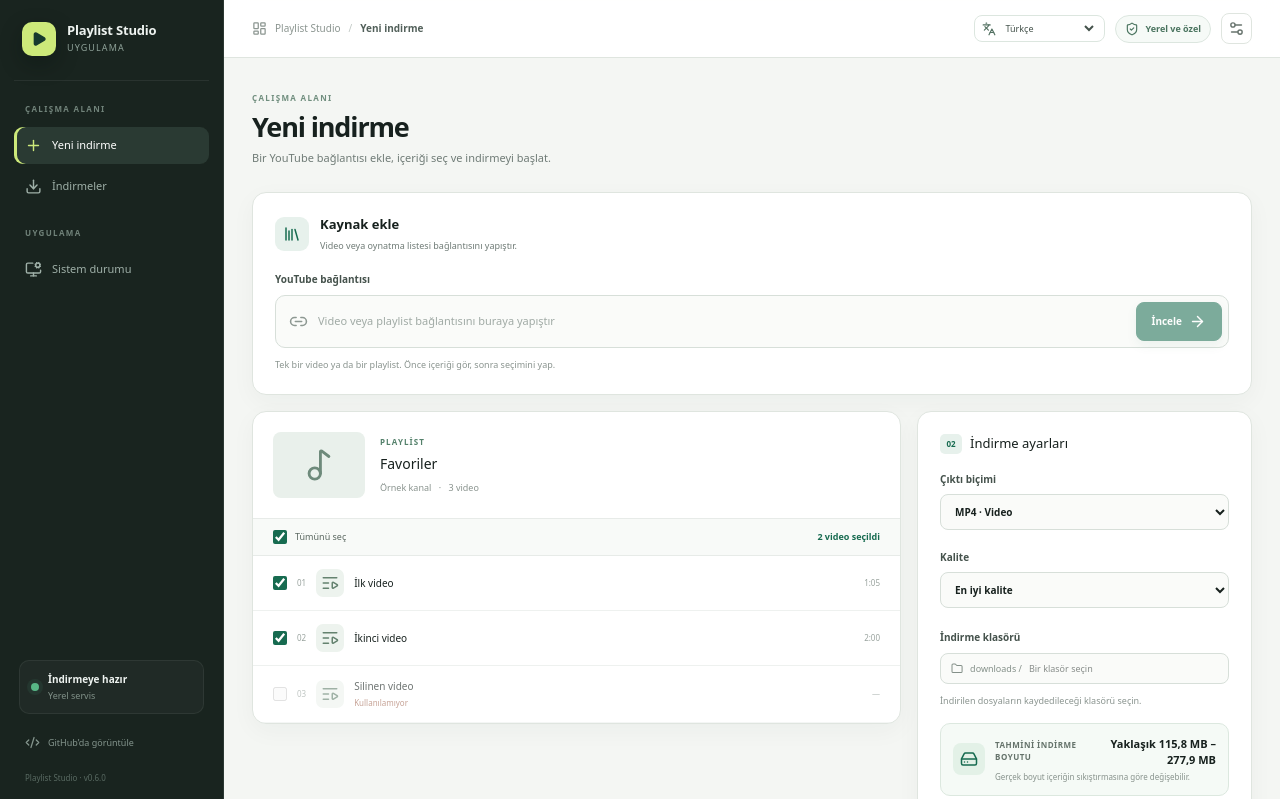
Test: audio mode uses the audio preset and fixes its bitrate
Select "MP3 · Yalnızca ses" in the dropdown labelled "Çıktı biçimi" at (1084, 512), box [940, 494, 1229, 530]
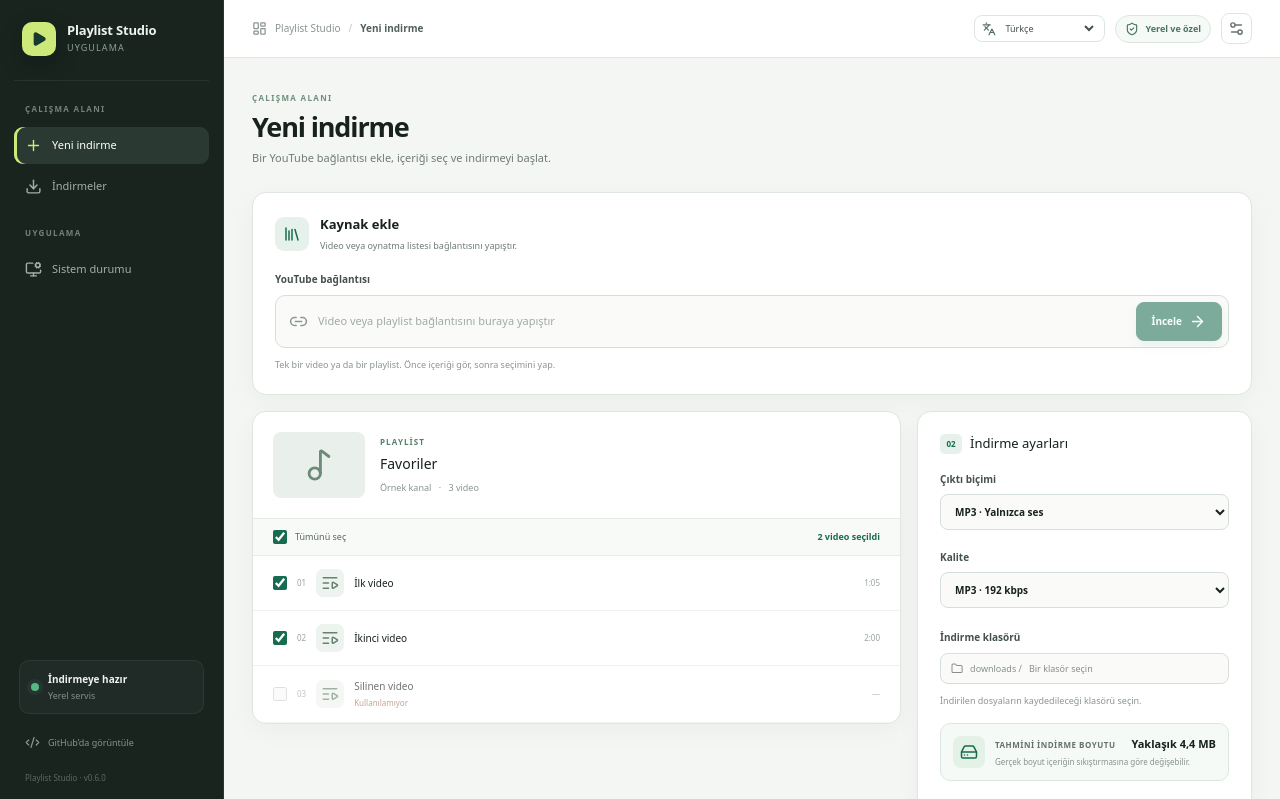
Expected: the dropdown labelled "Kalite" is disabled, [940, 572, 1229, 608]
